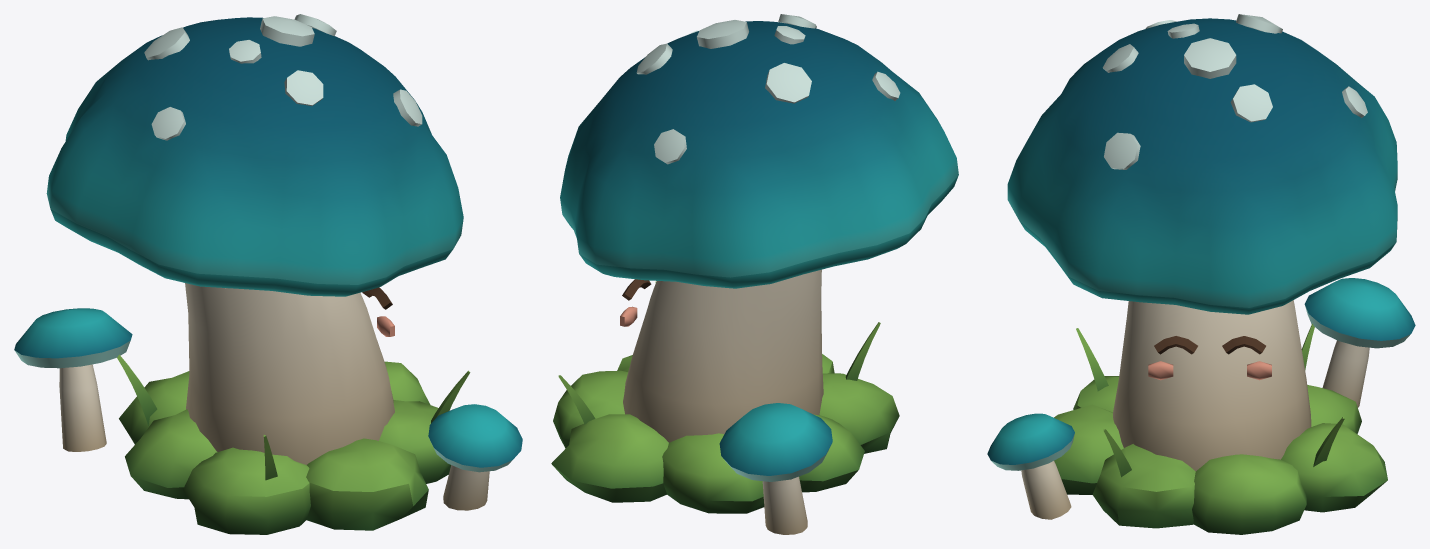
Rendered from Glowcap.fbx.
The picture shows the model from 3 angles, left to right: view 1: azimuth 30°, elevation 25°; view 2: azimuth 150°, elevation 25°; view 3: azimuth 270°, elevation 25°; orthographic projection. The views are drawn at different scales.
Parts seen in each view (by area): view 1: Cap, Stem, Babies; view 2: Cap, Stem, Babies; view 3: Cap, Stem, Babies.
Part boxes in pixels (x1,y1,x2,y2): Cap: (46,14,463,296); Stem: (117,283,470,534); Babies: (14,308,522,510); Cap: (560,14,958,288); Stem: (551,269,899,513); Babies: (719,403,832,534); Cap: (1007,14,1397,314); Stem: (1054,300,1387,534); Babies: (987,278,1415,519).
Bounding box in the file's own units: 0.5318 × 0.6113 × 0.5658.
